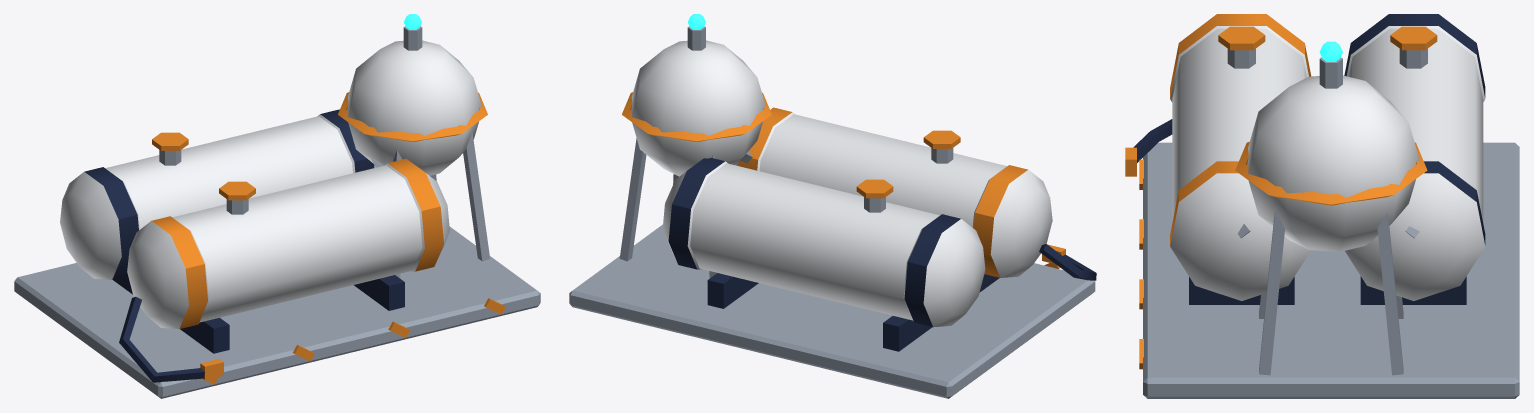
File: fuel_tanks.glb
The picture shows the model from 3 angles, left to right: view 1: azimuth 30°, elevation 25°; view 2: azimuth 150°, elevation 25°; view 3: azimuth 270°, elevation 25°; orthographic projection. The views are drawn at different scales.
Visible parts, largest first — view 1: fuel_tanks; view 2: fuel_tanks; view 3: fuel_tanks.
Part boxes in pixels (bbox=[...]): fuel_tanks: bbox=[14, 14, 540, 398]; fuel_tanks: bbox=[569, 14, 1096, 398]; fuel_tanks: bbox=[1125, 14, 1519, 398].
Bounding box in the file's own units: 2.54 × 1.52 × 1.68.
